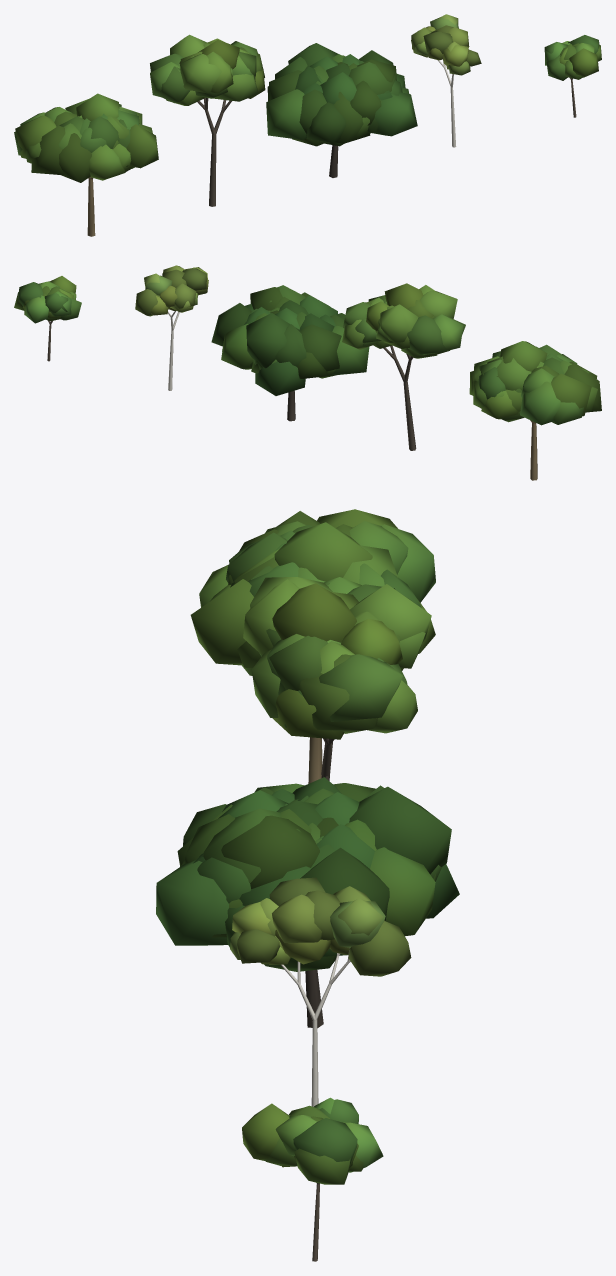
File: trees.glb
3 views of the same model, one above another, from view 1: azimuth 30°, elevation 25°; view 2: azimuth 150°, elevation 25°; view 3: azimuth 270°, elevation 25° (orthographic). The views are drawn at different scales.
Parts seen in each view (by area): view 1: tree_chestnut_leaves, tree_plane_leaves, tree_lime_leaves, tree_birch_leaves, tree_young_leaves, tree_lime_bark, tree_plane_bark, tree_birch_bark; view 2: tree_chestnut_leaves, tree_plane_leaves, tree_lime_leaves, tree_birch_leaves, tree_young_leaves, tree_lime_bark, tree_plane_bark, tree_birch_bark; view 3: tree_chestnut_leaves, tree_lime_leaves, tree_plane_leaves, tree_birch_leaves, tree_young_leaves, tree_birch_bark.
Part boxes in pixels (left/top/right/bottom): tree_chestnut_leaves: left=266, top=43, right=417, bottom=146; tree_plane_leaves: left=14, top=93, right=158, bottom=182; tree_lime_leaves: left=150, top=34, right=265, bottom=105; tree_birch_leaves: left=411, top=14, right=481, bottom=75; tree_young_leaves: left=544, top=35, right=601, bottom=80; tree_lime_bark: left=197, top=97, right=231, bottom=206; tree_plane_bark: left=87, top=177, right=95, bottom=236; tree_birch_bark: left=437, top=60, right=456, bottom=147; tree_chestnut_leaves: left=211, top=285, right=369, bottom=395; tree_plane_leaves: left=469, top=341, right=601, bottom=425; tree_lime_leaves: left=342, top=283, right=465, bottom=358; tree_birch_leaves: left=135, top=265, right=208, bottom=316; tree_young_leaves: left=14, top=276, right=81, bottom=323; tree_lime_bark: left=383, top=345, right=416, bottom=450; tree_plane_bark: left=530, top=420, right=537, bottom=480; tree_birch_bark: left=168, top=311, right=179, bottom=390; tree_chestnut_leaves: left=156, top=777, right=459, bottom=971; tree_lime_leaves: left=243, top=577, right=431, bottom=739; tree_plane_leaves: left=190, top=509, right=435, bottom=675; tree_birch_leaves: left=230, top=877, right=411, bottom=976; tree_young_leaves: left=242, top=1097, right=383, bottom=1184; tree_birch_bark: left=280, top=948, right=350, bottom=1106.
Bounding box in the file's own units: 66.66 × 18.23 × 15.24.
